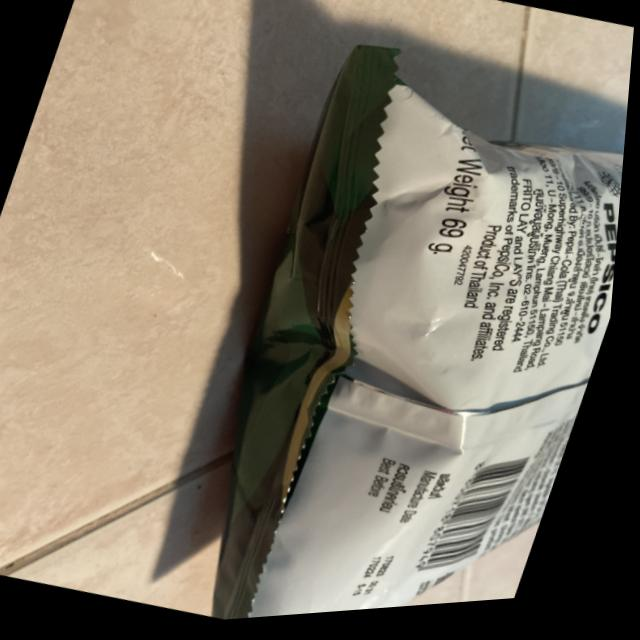Laygreen: (144, 17, 637, 629)
